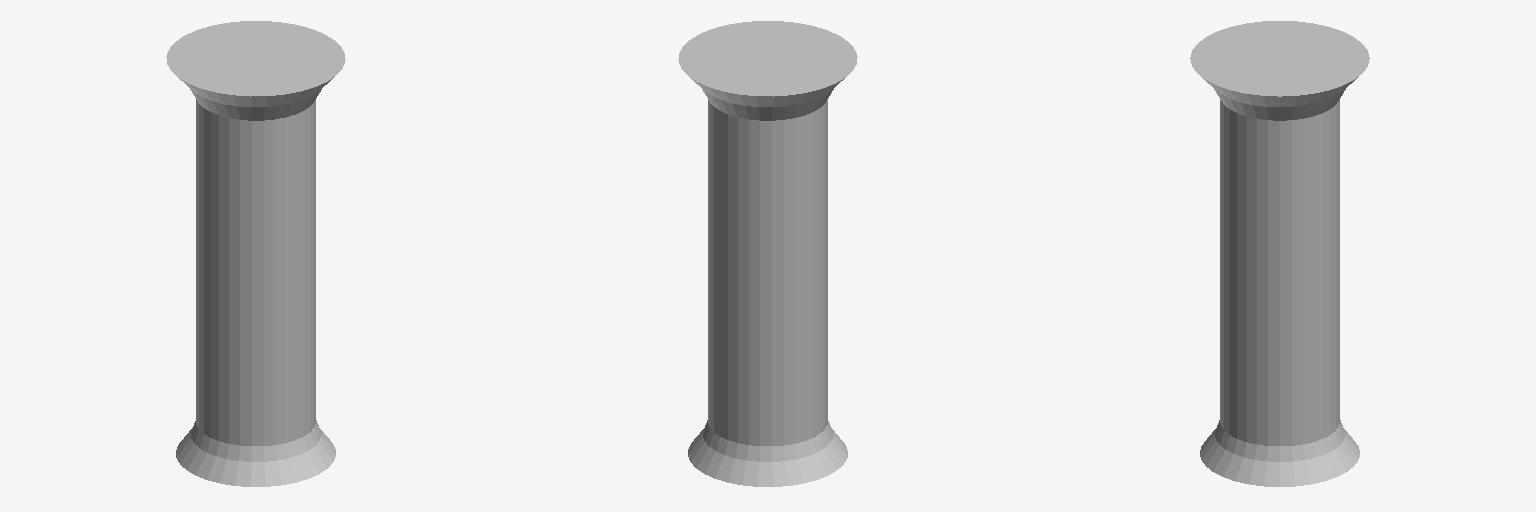
The model's file is zpillarpanel.obj.
3 views of the same model, side by side, from view 1: azimuth 30°, elevation 25°; view 2: azimuth 150°, elevation 25°; view 3: azimuth 270°, elevation 25° (orthographic).
Visible parts, largest first — view 1: Cylinder; view 2: Cylinder; view 3: Cylinder.
Part boxes in pixels (bbox=[...]): Cylinder: bbox=[166, 21, 345, 486]; Cylinder: bbox=[678, 21, 857, 486]; Cylinder: bbox=[1190, 21, 1369, 486].
Size of the model in its own units: 4.84 by 11.75 by 4.84.